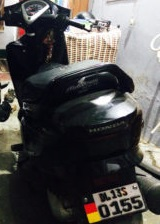DL13S0155: (82, 181, 146, 224)
